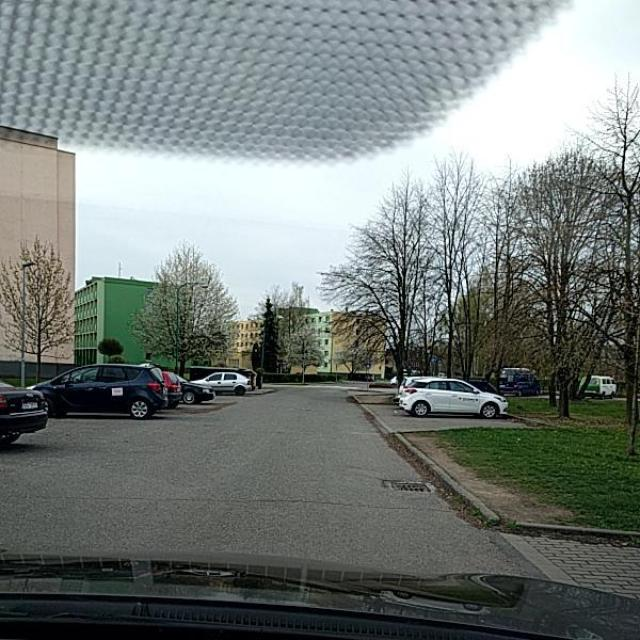Crack: (53, 396, 535, 583)
